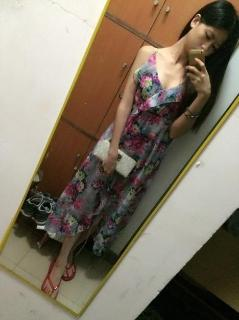sling: (44, 48, 203, 256)
